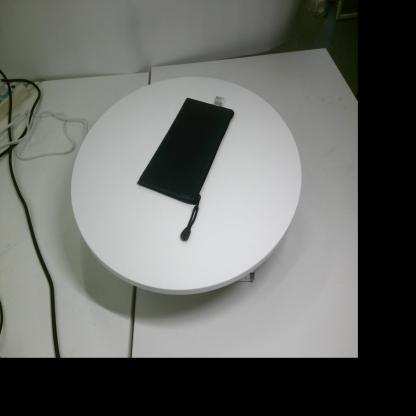Stationery: (137, 96, 235, 241)
